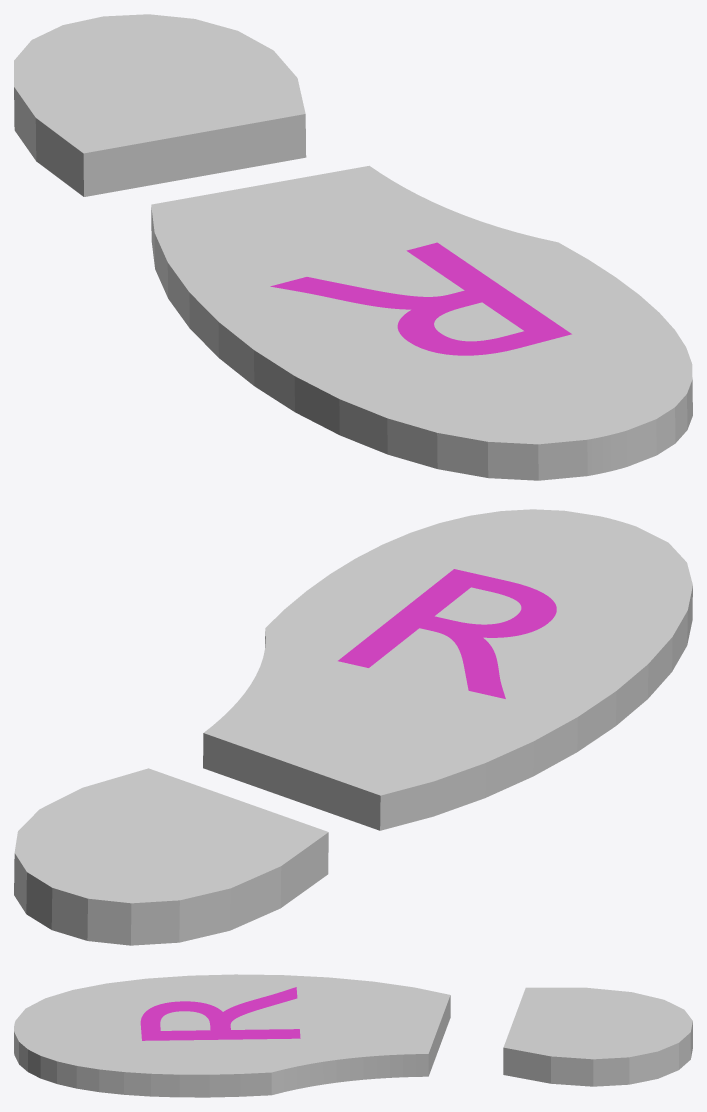
Rendered from rightFoot.fbx.
3 views of the same model, one above another, from view 1: azimuth 30°, elevation 25°; view 2: azimuth 150°, elevation 25°; view 3: azimuth 270°, elevation 25° (orthographic). The views are drawn at different scales.
Parts seen in each view (by area): view 1: righttoe, rightheel, R; view 2: righttoe, rightheel, R; view 3: righttoe, rightheel, R.
Boxes of the visible parts, x1=… form: righttoe: x1=151, y1=165, x2=692, y2=480; rightheel: x1=14, y1=14, x2=306, y2=196; R: x1=270, y1=242, x2=571, y2=355; righttoe: x1=203, y1=509, x2=692, y2=830; rightheel: x1=14, y1=768, x2=328, y2=945; R: x1=338, y1=569, x2=556, y2=698; righttoe: x1=14, y1=974, x2=450, y2=1097; rightheel: x1=503, y1=987, x2=692, y2=1086; R: x1=140, y1=987, x2=300, y2=1040.
Bounding box in the file's own units: 71.64 × 10.03 × 199.
